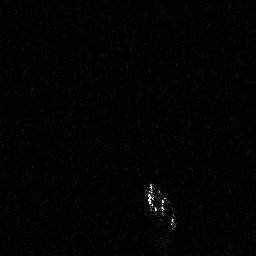ship: (143, 181, 180, 231)
